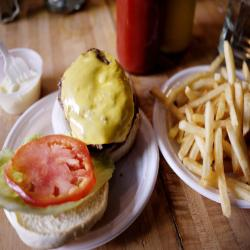burger: (10, 49, 141, 239)
fries: (170, 75, 248, 195)
